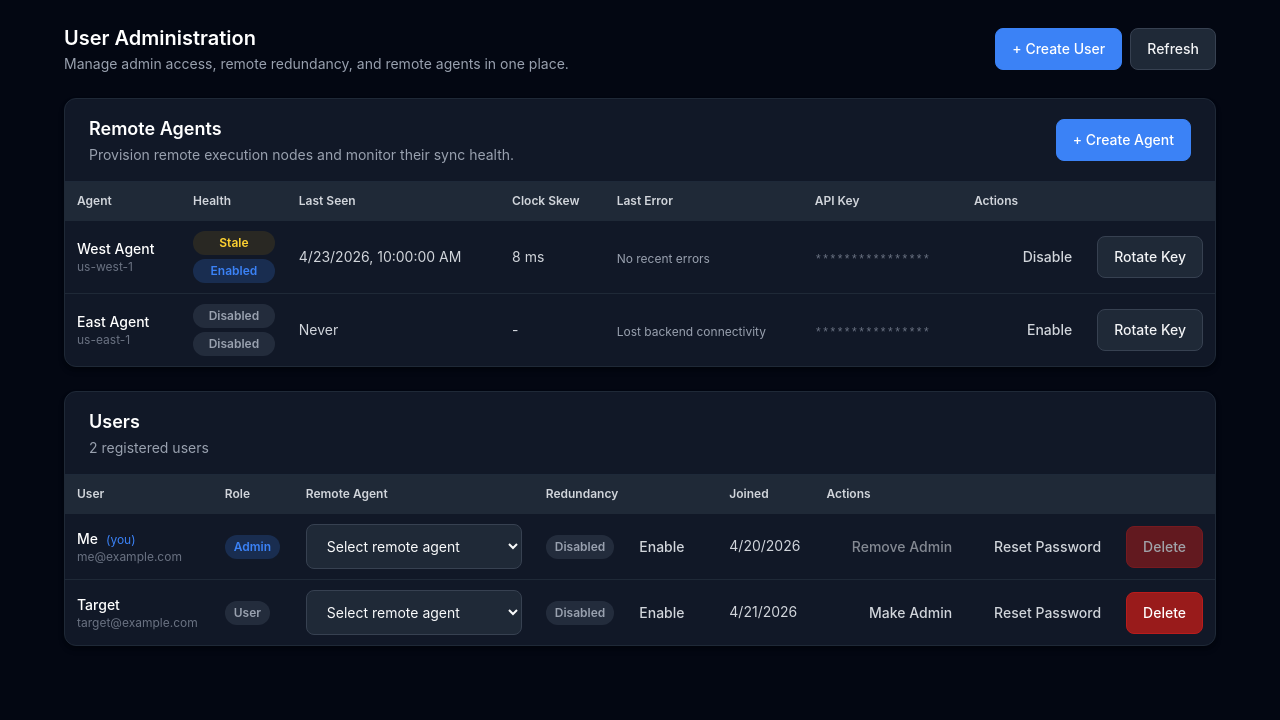
Admin remote redundancy UI › rotates a key through confirmation and shows the replacement key once
Check: the heading "Remote Agents" is shown, box [89,118,222,139]
Check: the heading "Users" is shown, box [89,411,140,432]
Click the button "Rotate Key" in the row of "West Agent" at (1150, 257), box [1097,236,1203,278]
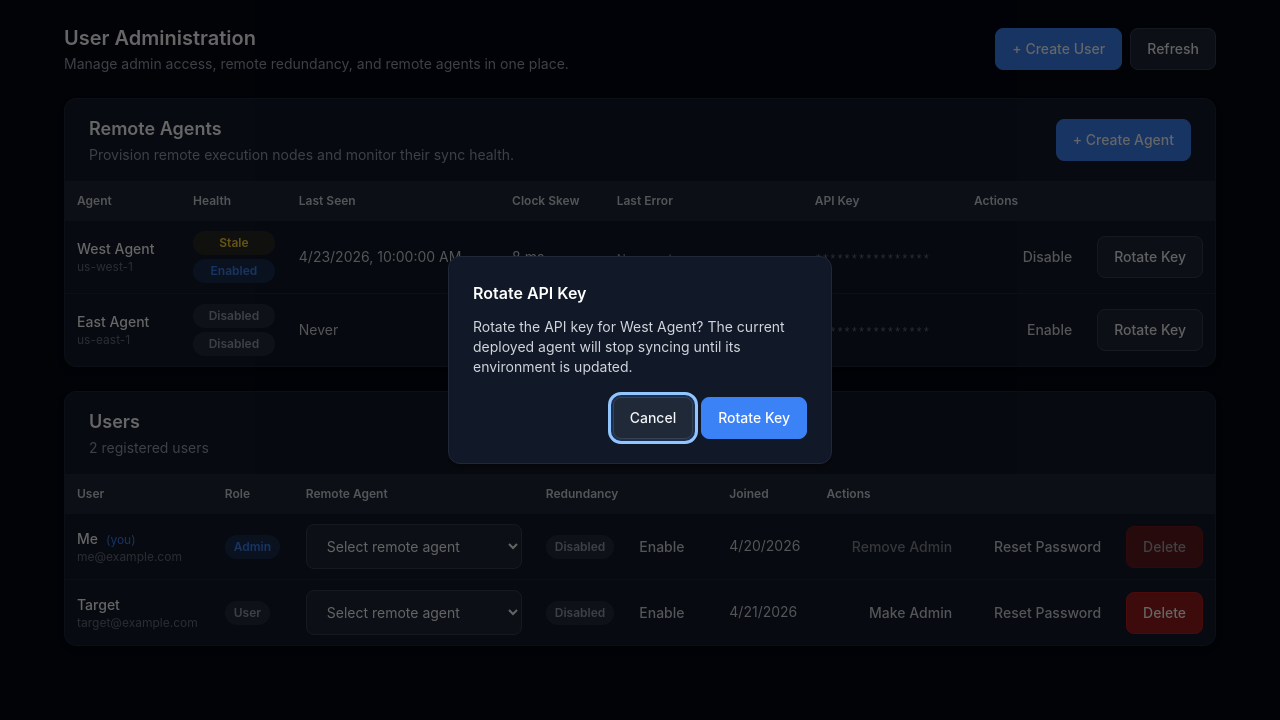
Click the button "Rotate Key" at (754, 418), box [701,397,807,439]
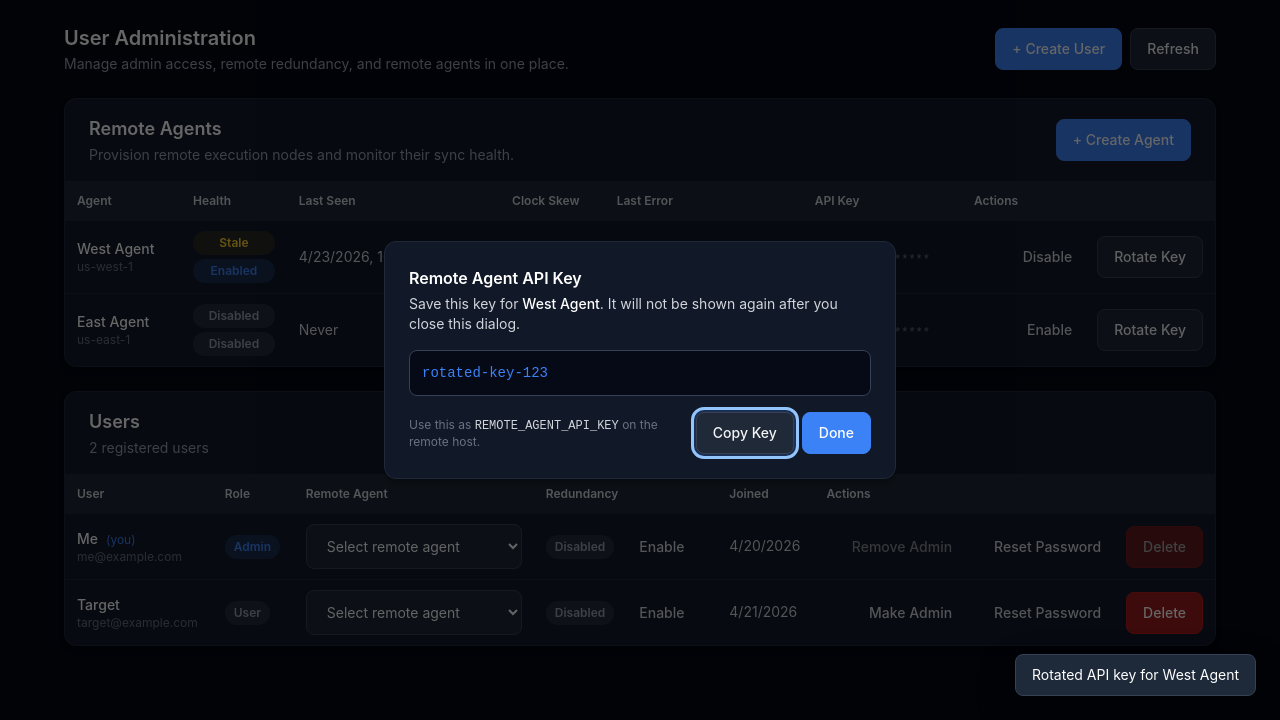
Check: the text "rotated-key-123" is shown, box [422,365,548,381]
